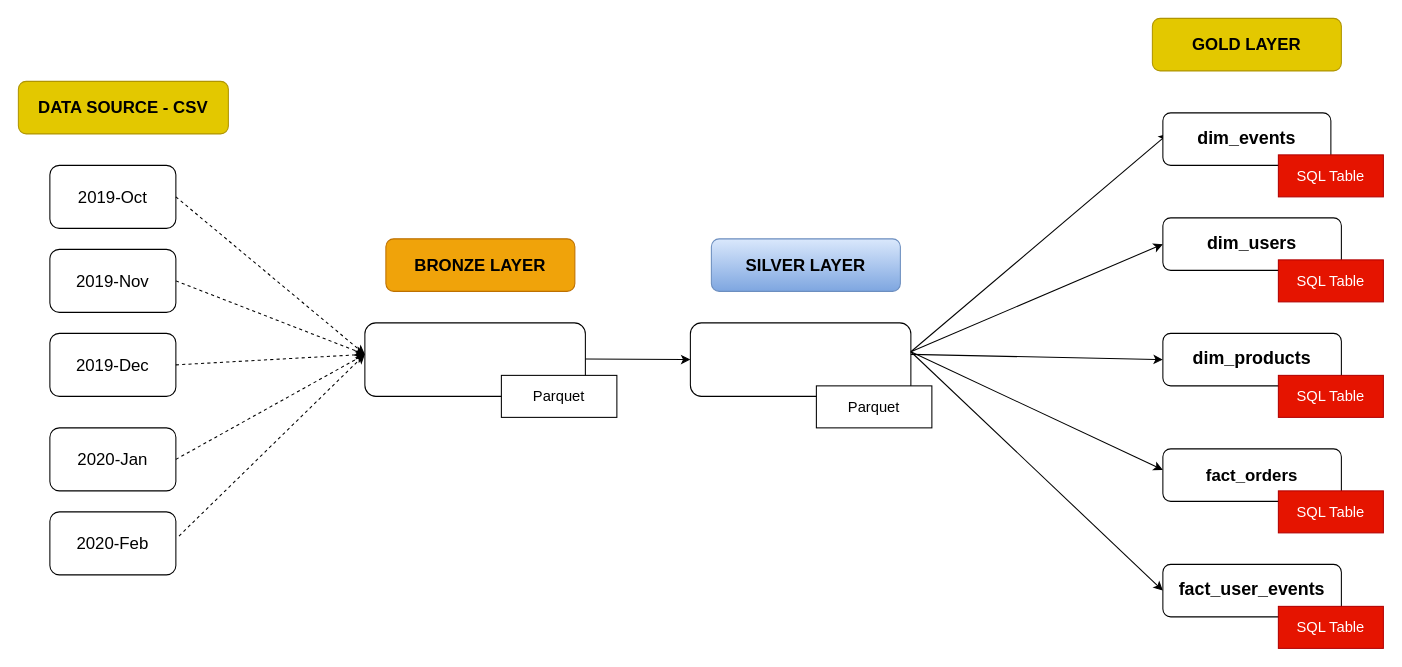
This 1402x667 diagram has some shape labels left out. The shapes that lost their labels are listed below. From the top down, each one's box as (x1, y1, x2, y2) in pixels, then its label:
(364, 322, 585, 396): Behaviour Dataset
(689, 322, 911, 396): year = 2019 year = 2020
